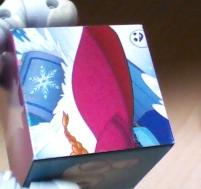Red1: (8, 24, 175, 160)
